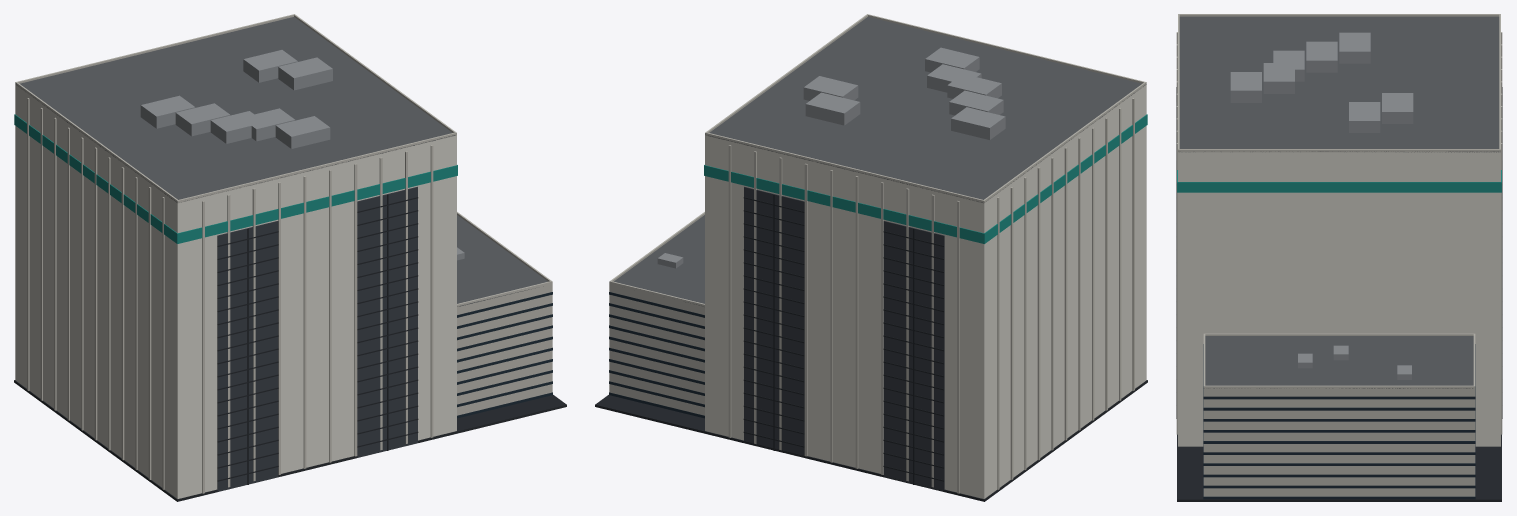
The model's file is vehicle_assembly_4.glb.
The picture shows the model from 3 angles, left to right: view 1: azimuth 30°, elevation 25°; view 2: azimuth 150°, elevation 25°; view 3: azimuth 270°, elevation 25°; orthographic projection.
Parts seen in each view (by area): view 1: Assembly.003; view 2: Assembly.003; view 3: Assembly.003.
Part boxes in pixels (bbox=[...]): Assembly.003: bbox=[14, 14, 566, 501]; Assembly.003: bbox=[595, 14, 1147, 501]; Assembly.003: bbox=[1176, 14, 1502, 501].
Bounding box in the file's own units: 219 × 167 × 160.
